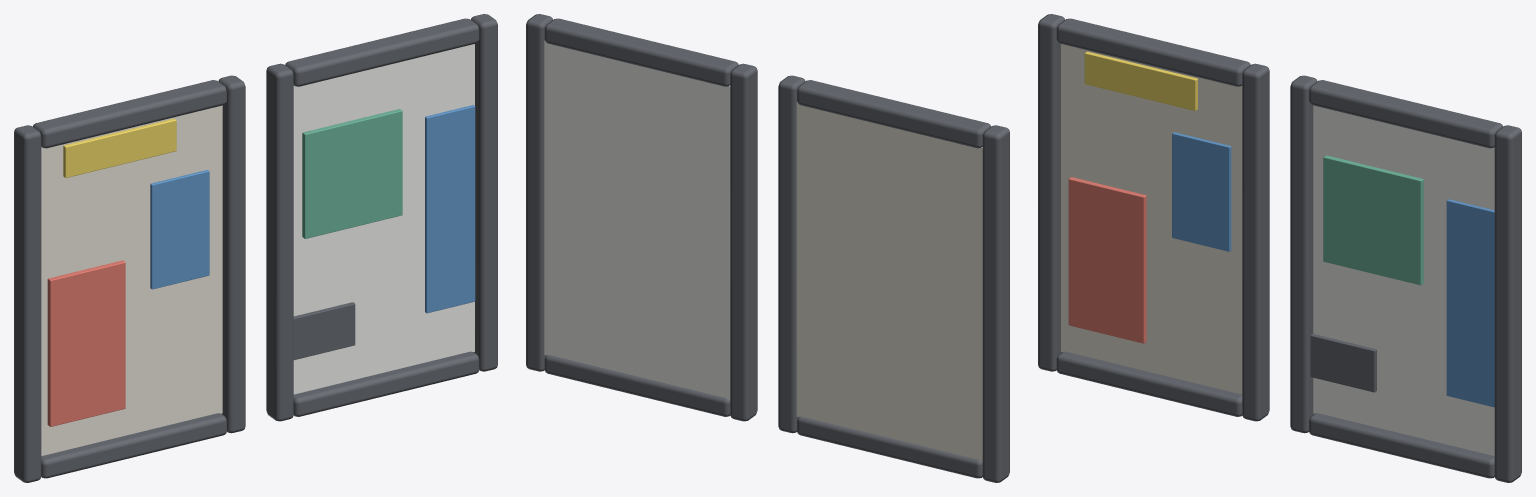
3 views of the same model, side by side, from view 1: azimuth 30°, elevation 25°; view 2: azimuth 150°, elevation 25°; view 3: azimuth 330°, elevation 25° (orthographic).
Parts seen in each view (by area): view 1: diptych-panel-pair; view 2: diptych-panel-pair; view 3: diptych-panel-pair.
Part boxes in pixels (x1,y1,x2,y2): diptych-panel-pair: (14, 14, 497, 482); diptych-panel-pair: (526, 14, 1009, 482); diptych-panel-pair: (1038, 14, 1521, 482).
Bounding box in the file's own units: 1.28 × 0.8999 × 0.06.
